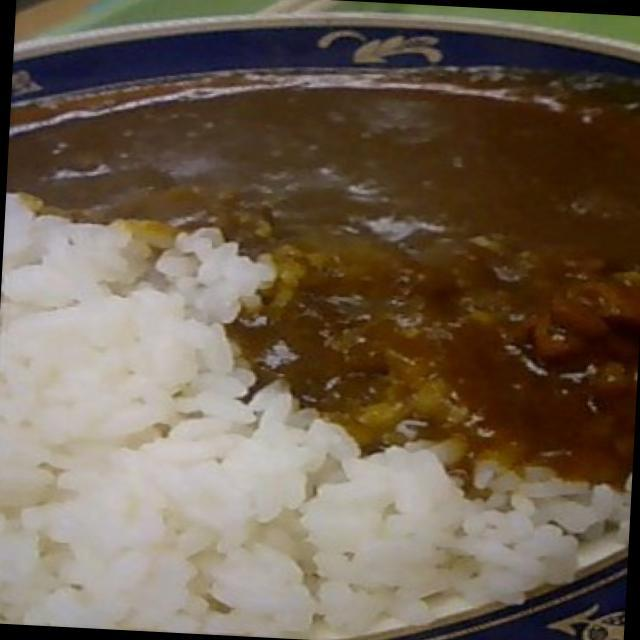Beef Curry: (222, 1, 640, 441)
Rice: (0, 231, 511, 640)
